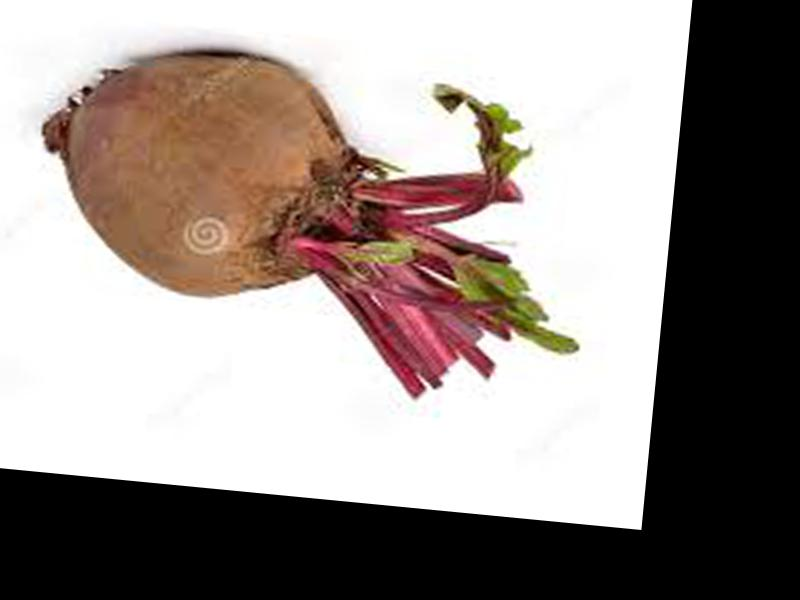Beet: (19, 39, 599, 410)
